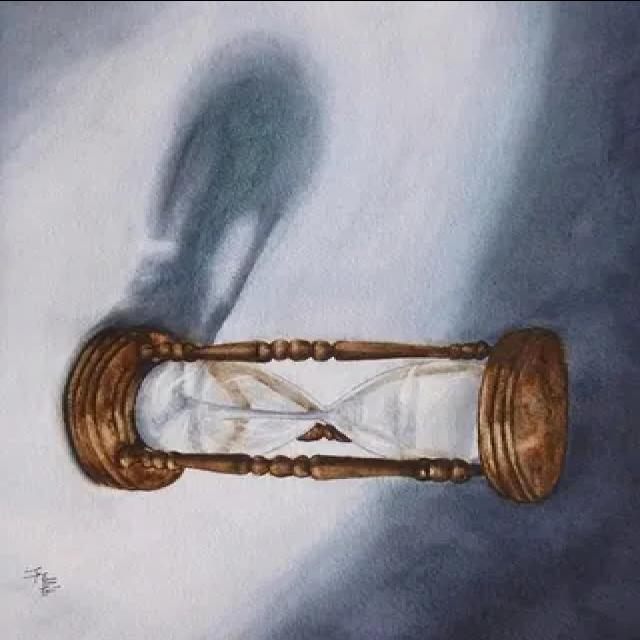clock: (60, 309, 582, 509)
